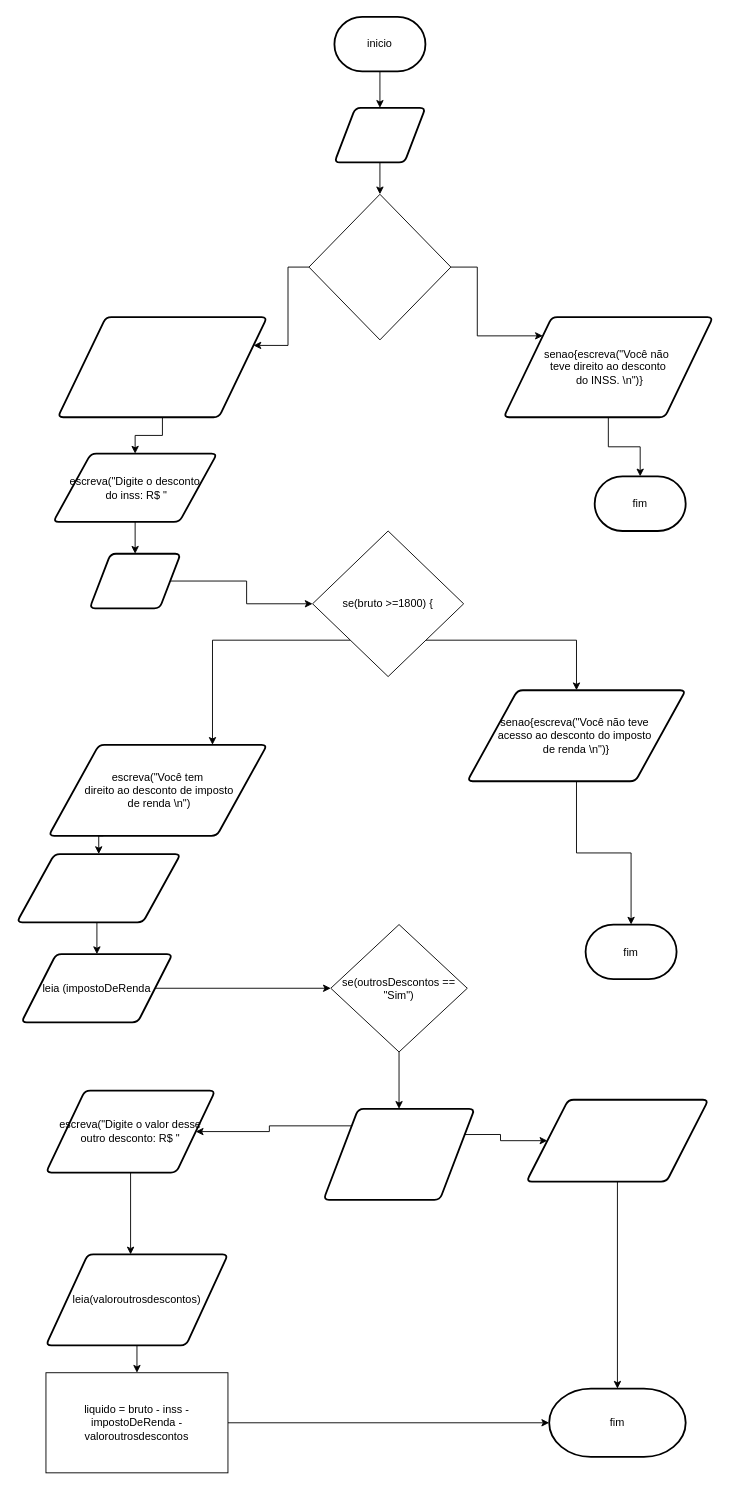
Image size: 729x1489. Some labels were removed from this diagram. The shapes that lost their labels are listed below. From the top down, each one's centre as x and y in pixels, then its label:
the point at 379,134: leia (bruto)
the point at 379,266: se(bruto >=1600) {
the point at 162,367: escreva("Você tem direito ao desconto de INSS",''\n")
the point at 134,580: leia (inss)
the point at 98,888: escreva("Digite o desconto do imposto de renda: R$ "
the point at 398,1153: Existe outros descontos?
the point at 617,1140: liquido = bruto - inss - impostoDeRenda
